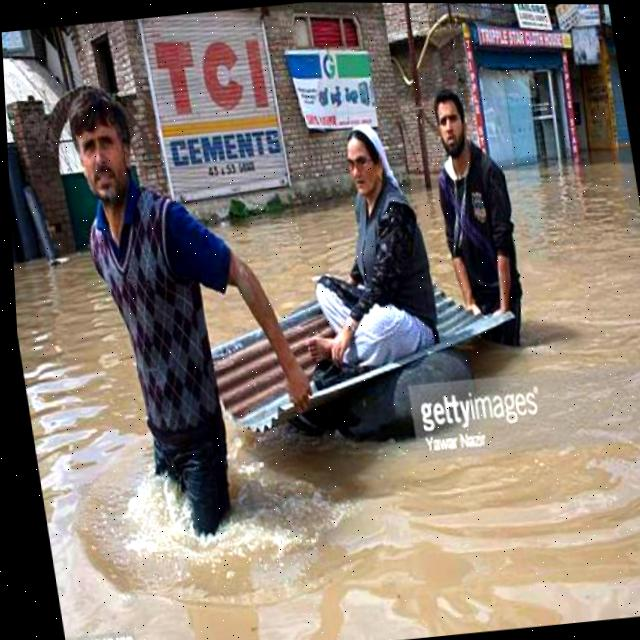civilian: (48, 68, 337, 569), (267, 67, 459, 414), (408, 69, 554, 385)
